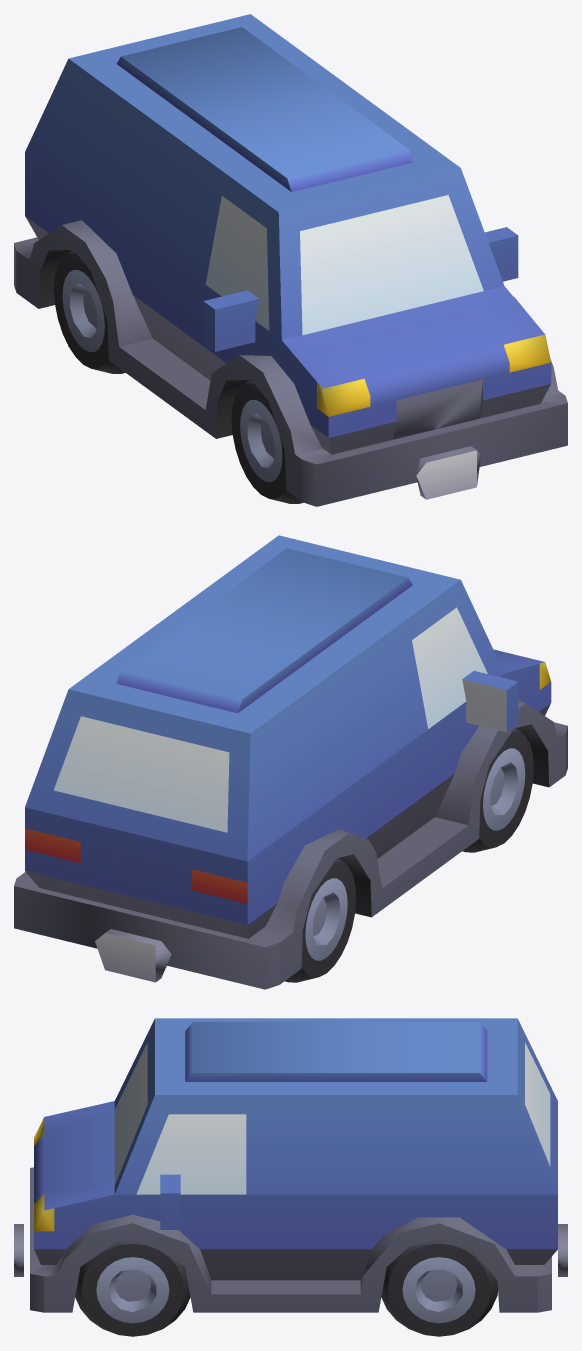
The model's file is 045_car-kit_van_card.glb.
The picture shows the model from 3 angles, top to bottom: view 1: azimuth 30°, elevation 25°; view 2: azimuth 150°, elevation 25°; view 3: azimuth 270°, elevation 25°; orthographic projection. The views are drawn at different scales.
Parts seen in each view (by area): view 1: body, wheel-front-right, wheel-back-right; view 2: body, wheel-front-right, wheel-back-right; view 3: body, wheel-back-left, wheel-front-left.
Part boxes in pixels (x1,y1,x2,y2): body: (14, 14, 567, 506); wheel-front-right: (231, 380, 303, 503); wheel-back-right: (54, 250, 125, 373); body: (14, 535, 567, 989); wheel-front-right: (462, 728, 533, 852); wheel-back-right: (285, 858, 356, 982); body: (14, 1018, 567, 1312); wheel-back-left: (381, 1239, 497, 1336); wheel-front-left: (75, 1241, 190, 1336).
Bounding box in the file's own units: 1.5 × 1.35 × 2.75.
Materials: 1 (1 with a texture image).
